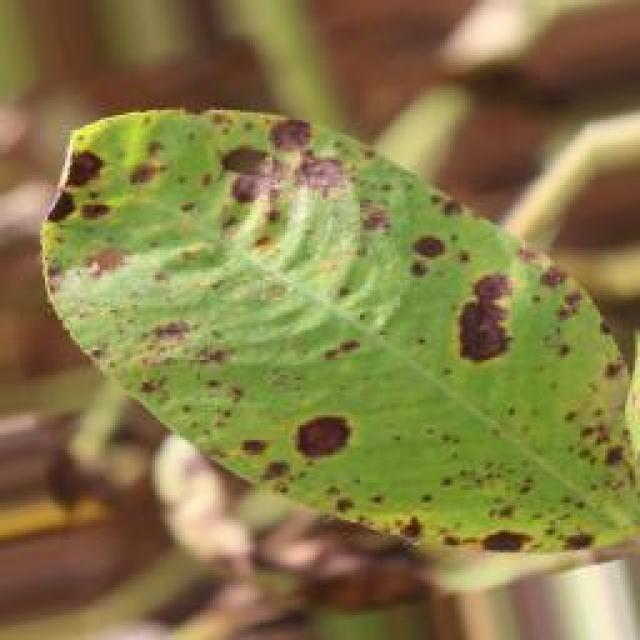Yellowish: (57, 97, 640, 572)
